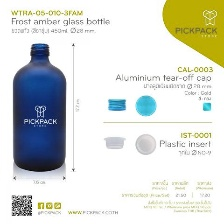bottle: (9, 39, 68, 172)
